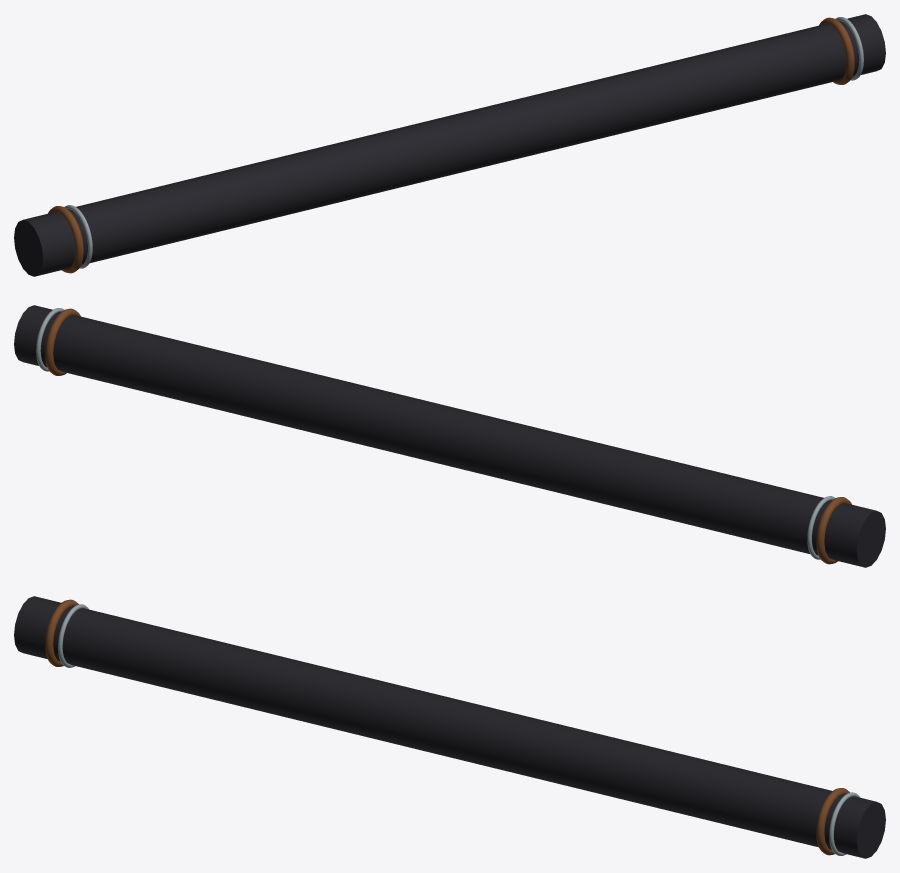
Rendered from mia-pipe_run.glb.
3 views of the same model, one above another, from view 1: azimuth 30°, elevation 25°; view 2: azimuth 150°, elevation 25°; view 3: azimuth 330°, elevation 25° (orthographic).
Visible parts, largest first — view 1: Body_iron, Body_rust, Body_steel; view 2: Body_iron, Body_rust, Body_steel; view 3: Body_iron, Body_rust, Body_steel.
Part boxes in pixels (left/top/right/bottom): Body_iron: left=14, top=14, right=885, bottom=276; Body_rust: left=48, top=17, right=854, bottom=273; Body_steel: left=64, top=17, right=863, bottom=268; Body_iron: left=14, top=305, right=885, bottom=567; Body_rust: left=45, top=308, right=851, bottom=564; Body_steel: left=36, top=308, right=835, bottom=559; Body_iron: left=14, top=596, right=885, bottom=858; Body_rust: left=45, top=599, right=849, bottom=855; Body_steel: left=58, top=604, right=860, bottom=855.
Size of the model in its own units: 2 by 0.142 by 0.142.
